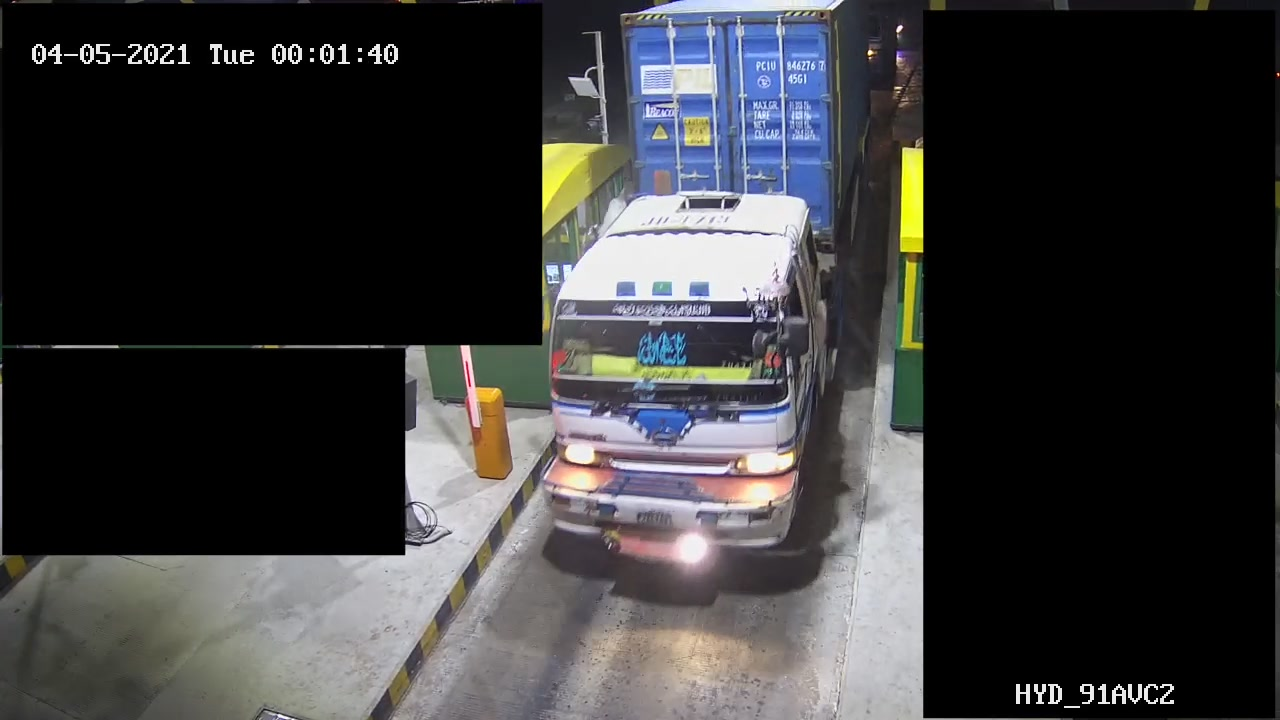F6: (540, 1, 874, 554)
